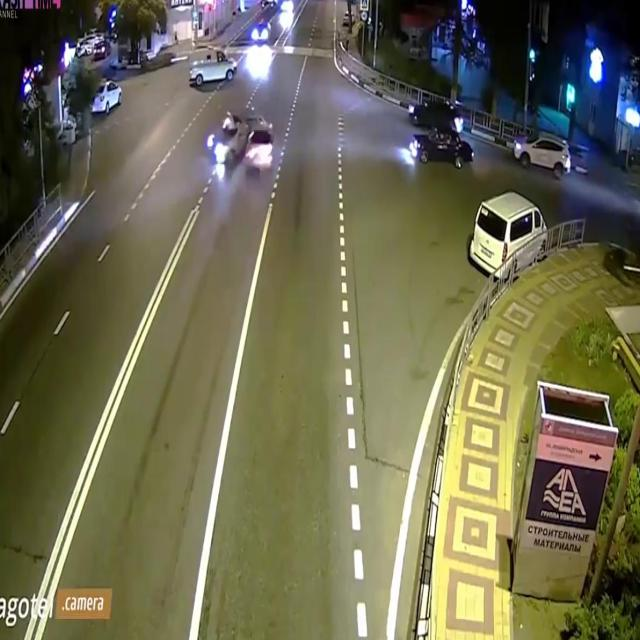accident: (202, 105, 282, 179)
non_accident: (405, 87, 480, 177)
